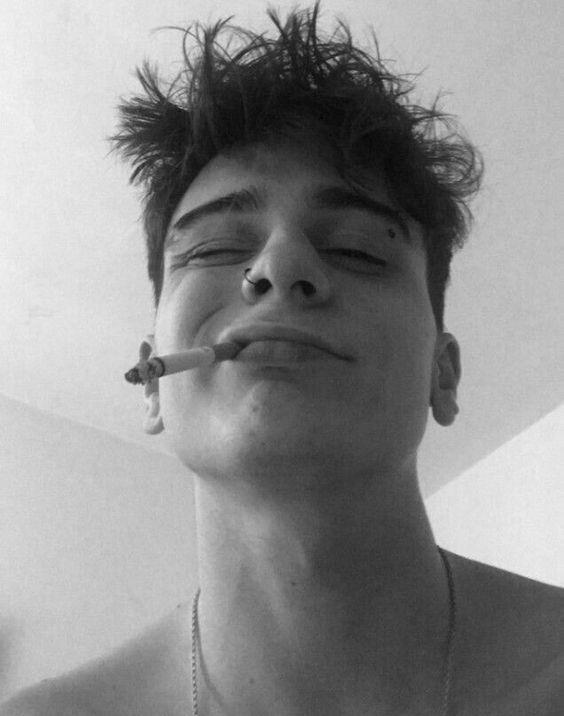cigarette: (125, 341, 247, 385)
